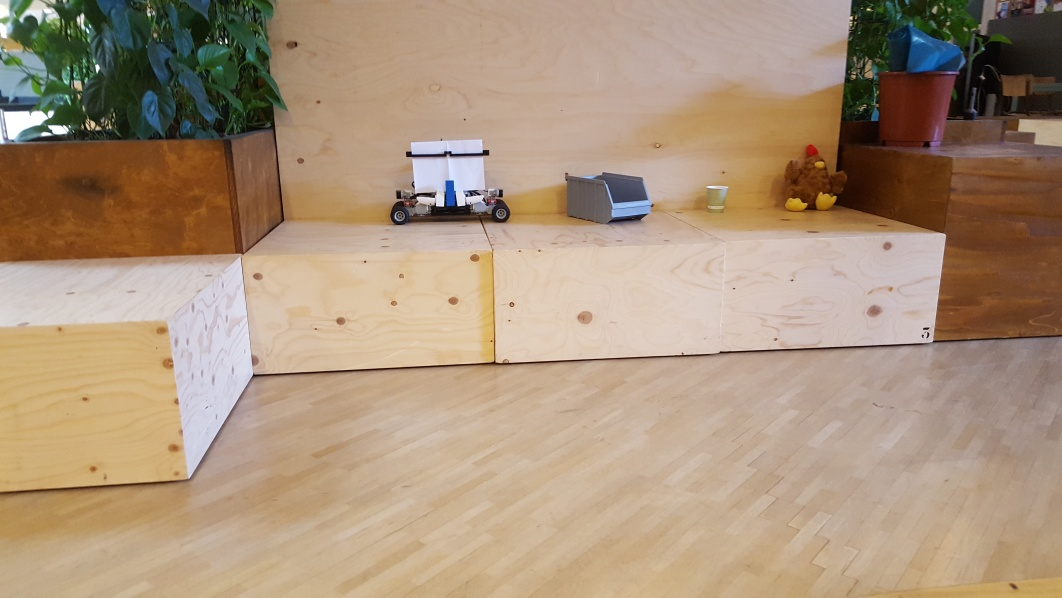beam: (442, 177, 458, 209)
chicken: (779, 143, 846, 213)
cup: (705, 184, 729, 214)
tray: (562, 171, 654, 223)
